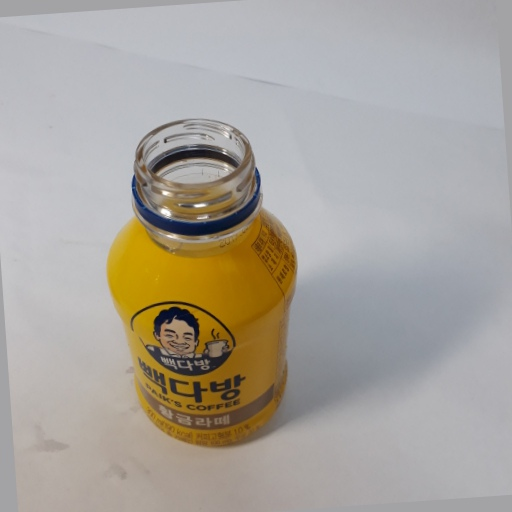Plastic_0: (102, 119, 300, 452)
